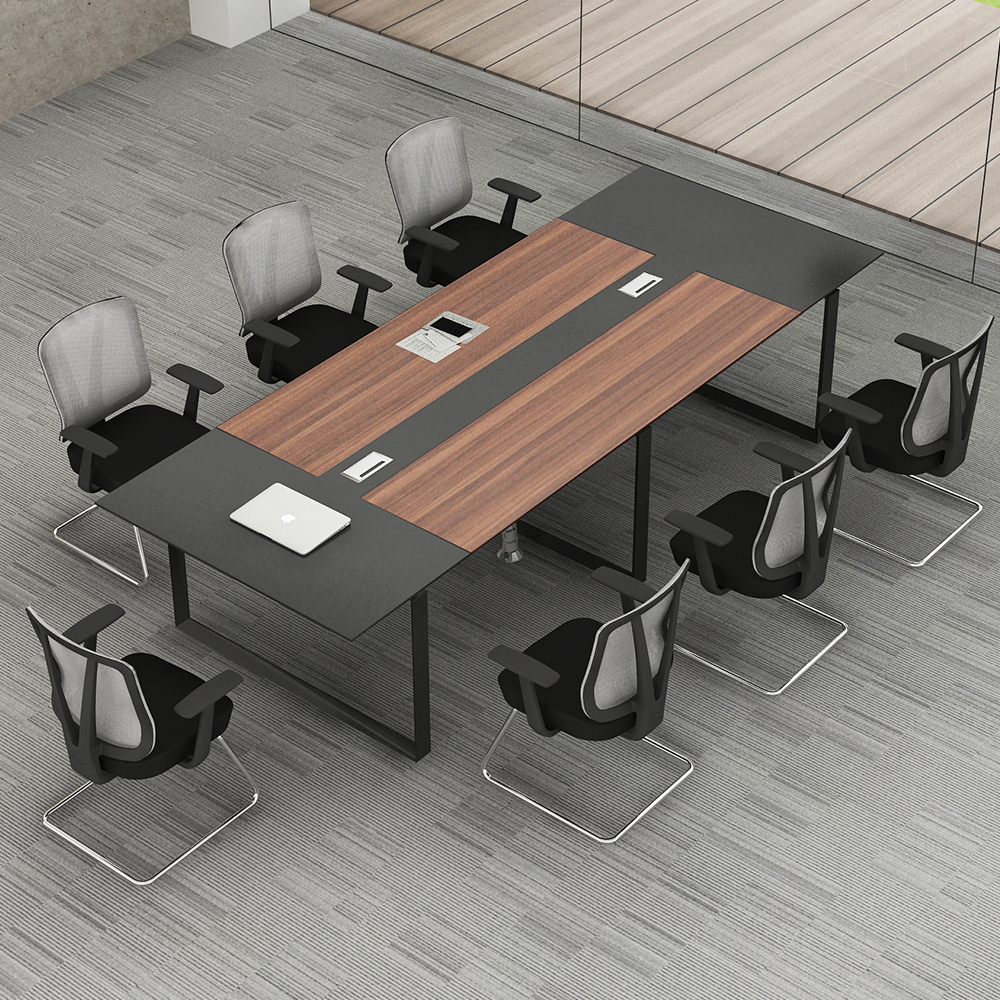conference_table: (95, 168, 889, 768)
